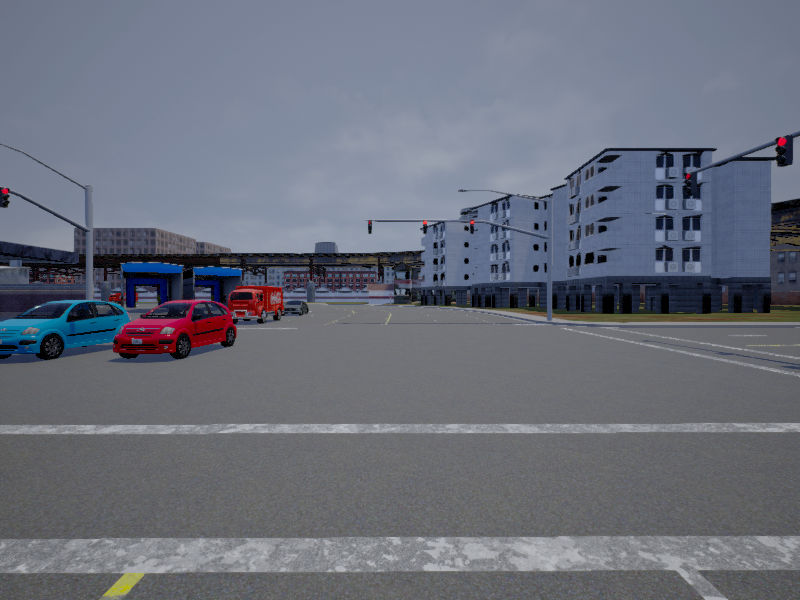Benign: (1, 296, 132, 358), (116, 300, 239, 359), (226, 285, 286, 325), (284, 302, 312, 318)
